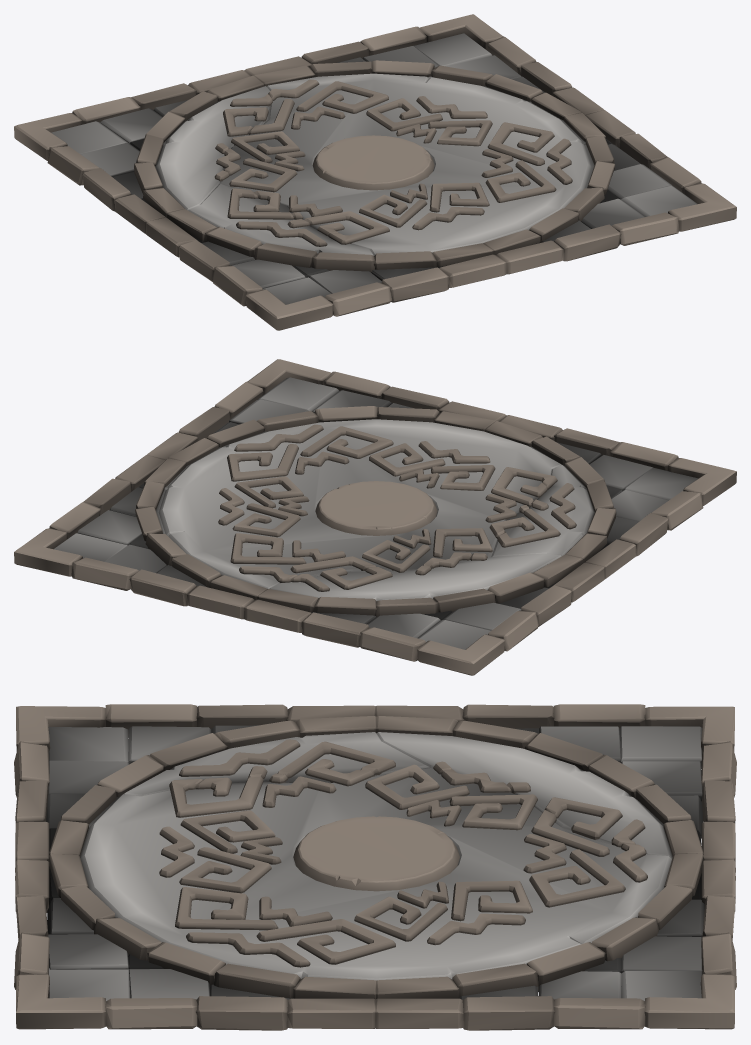
File: floor_decoration_A.FBX
3 views of the same model, one above another, from view 1: azimuth 30°, elevation 25°; view 2: azimuth 150°, elevation 25°; view 3: azimuth 270°, elevation 25° (orthographic). The views are drawn at different scales.
Visible parts, largest first — view 1: floor_decoration_A; view 2: floor_decoration_A; view 3: floor_decoration_A.
Part boxes in pixels (<box>): floor_decoration_A: <box>14,14,736,330</box>; floor_decoration_A: <box>14,359,736,675</box>; floor_decoration_A: <box>14,704,736,1030</box>.
Bounding box in the file's own units: 4.11 × 0.1888 × 4.08.
